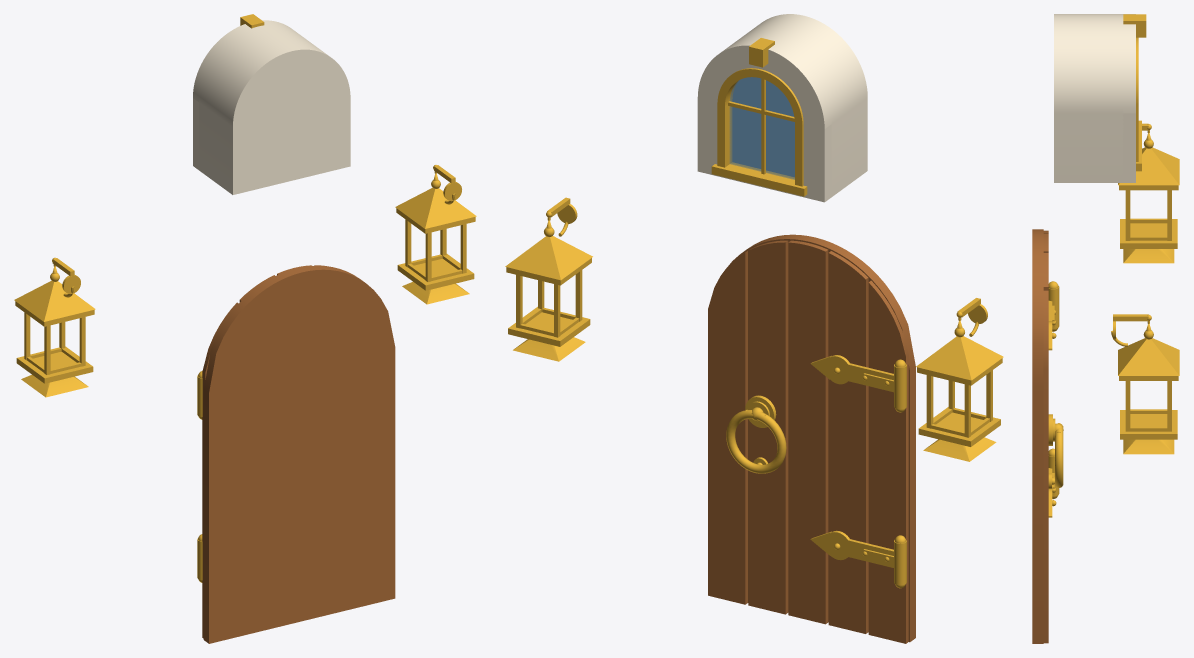
The model's file is HaloDomeHouse_07_ornaments.glb.
3 views of the same model, side by side, from view 1: azimuth 30°, elevation 25°; view 2: azimuth 150°, elevation 25°; view 3: azimuth 270°, elevation 25° (orthographic). The views are drawn at different scales.
Visible parts, largest first — view 1: Orn_H07_Leaf, Orn_H07_Dormer_Surround, Orn_H07_LanternL, Orn_H07_LanternR; view 2: Orn_H07_Leaf, Orn_H07_Dormer_Surround, Orn_H07_LanternR, Orn_H07_LanternL, Orn_H07_Dormer_Frame, Orn_H07_Dormer_Glass, Orn_H07_Dormer_Pane, Orn_H07_HingeLow, Orn_H07_HingeTop, Orn_H07_Knocker; view 3: Orn_H07_Dormer_Surround, Orn_H07_Leaf, Orn_H07_LanternR, Orn_H07_LanternL, Orn_H07_Dormer_Frame, Orn_H07_Knocker, Orn_H07_HingeTop, Orn_H07_HingeLow.
Part boxes in pixels (<box>): Orn_H07_Leaf: <box>202,265,395,643</box>; Orn_H07_Dormer_Surround: <box>193,20,350,194</box>; Orn_H07_LanternL: <box>14,257,95,397</box>; Orn_H07_LanternR: <box>395,165,476,304</box>; Orn_H07_Leaf: <box>708,234,915,643</box>; Orn_H07_Dormer_Surround: <box>697,14,867,202</box>; Orn_H07_LanternR: <box>505,197,592,361</box>; Orn_H07_LanternL: <box>916,298,1003,461</box>; Orn_H07_Dormer_Frame: <box>711,38,807,196</box>; Orn_H07_Dormer_Glass: <box>729,77,794,179</box>; Orn_H07_Dormer_Pane: <box>732,77,794,176</box>; Orn_H07_HingeLow: <box>810,530,906,588</box>; Orn_H07_HingeTop: <box>810,355,906,412</box>; Orn_H07_Knocker: <box>726,395,786,473</box>; Orn_H07_Dormer_Surround: <box>1054,14,1135,182</box>; Orn_H07_Leaf: <box>1032,229,1048,643</box>; Orn_H07_LanternR: <box>1111,314,1179,454</box>; Orn_H07_LanternL: <box>1118,123,1179,263</box>; Orn_H07_Dormer_Frame: <box>1123,14,1146,171</box>; Orn_H07_Knocker: <box>1048,414,1063,488</box>; Orn_H07_HingeTop: <box>1048,281,1059,350</box>; Orn_H07_HingeLow: <box>1048,448,1059,517</box>.
Bounding box in the file's own units: 10 × 12.47 × 2.87.
